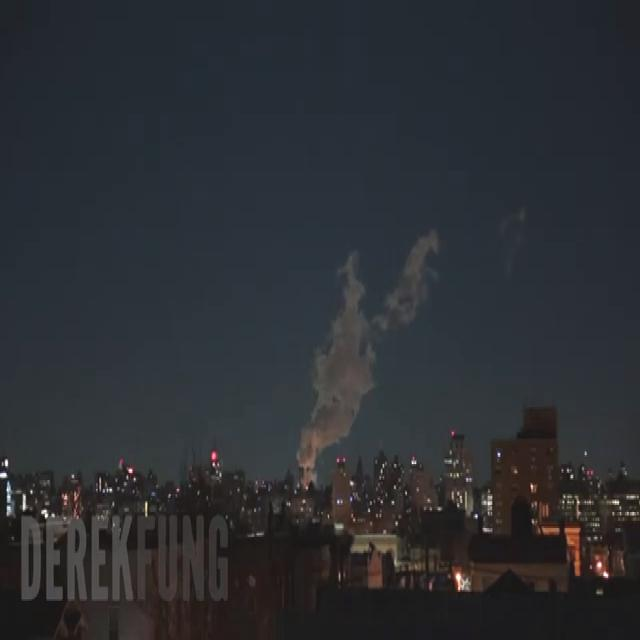smoke: (296, 247, 419, 468)
